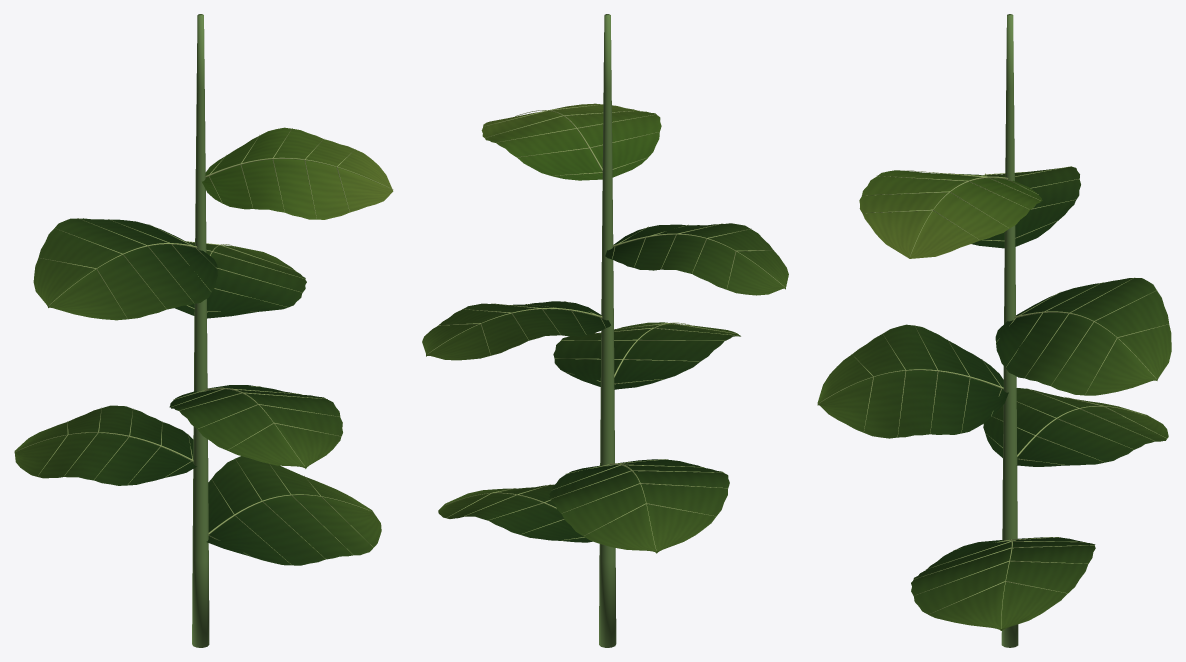
File: sunflower-05.glb
3 renders of one model, left to right at view 1: azimuth 30°, elevation 25°; view 2: azimuth 150°, elevation 25°; view 3: azimuth 270°, elevation 25°, orthographic.
Visible parts, largest first — view 1: sunflower_stage_05_leaf_veins.008, sunflower_stage_05_young_leaf.008, sunflower_stage_05_stem_fibres.008, sunflower_stage_05_raised_midveins.008; view 2: sunflower_stage_05_leaf_veins.008, sunflower_stage_05_young_leaf.008, sunflower_stage_05_stem_fibres.008, sunflower_stage_05_raised_midveins.008; view 3: sunflower_stage_05_leaf_veins.008, sunflower_stage_05_young_leaf.008, sunflower_stage_05_stem_fibres.008, sunflower_stage_05_raised_midveins.008.
Boxes of the visible parts, bbox=[...] form: sunflower_stage_05_leaf_veins.008: bbox=[14, 218, 381, 565]; sunflower_stage_05_young_leaf.008: bbox=[202, 127, 393, 219]; sunflower_stage_05_stem_fibres.008: bbox=[192, 14, 209, 647]; sunflower_stage_05_raised_midveins.008: bbox=[14, 128, 393, 564]; sunflower_stage_05_leaf_veins.008: bbox=[422, 223, 788, 553]; sunflower_stage_05_young_leaf.008: bbox=[481, 103, 661, 180]; sunflower_stage_05_stem_fibres.008: bbox=[599, 14, 616, 647]; sunflower_stage_05_raised_midveins.008: bbox=[427, 104, 785, 550]; sunflower_stage_05_leaf_veins.008: bbox=[817, 166, 1171, 630]; sunflower_stage_05_young_leaf.008: bbox=[859, 170, 1042, 258]; sunflower_stage_05_stem_fibres.008: bbox=[1001, 14, 1018, 647]; sunflower_stage_05_raised_midveins.008: bbox=[818, 166, 1168, 628].
Bounding box in the file's own units: 0.1754 × 0.3169 × 0.1617.
Materials: 4 (2 with a texture image).
